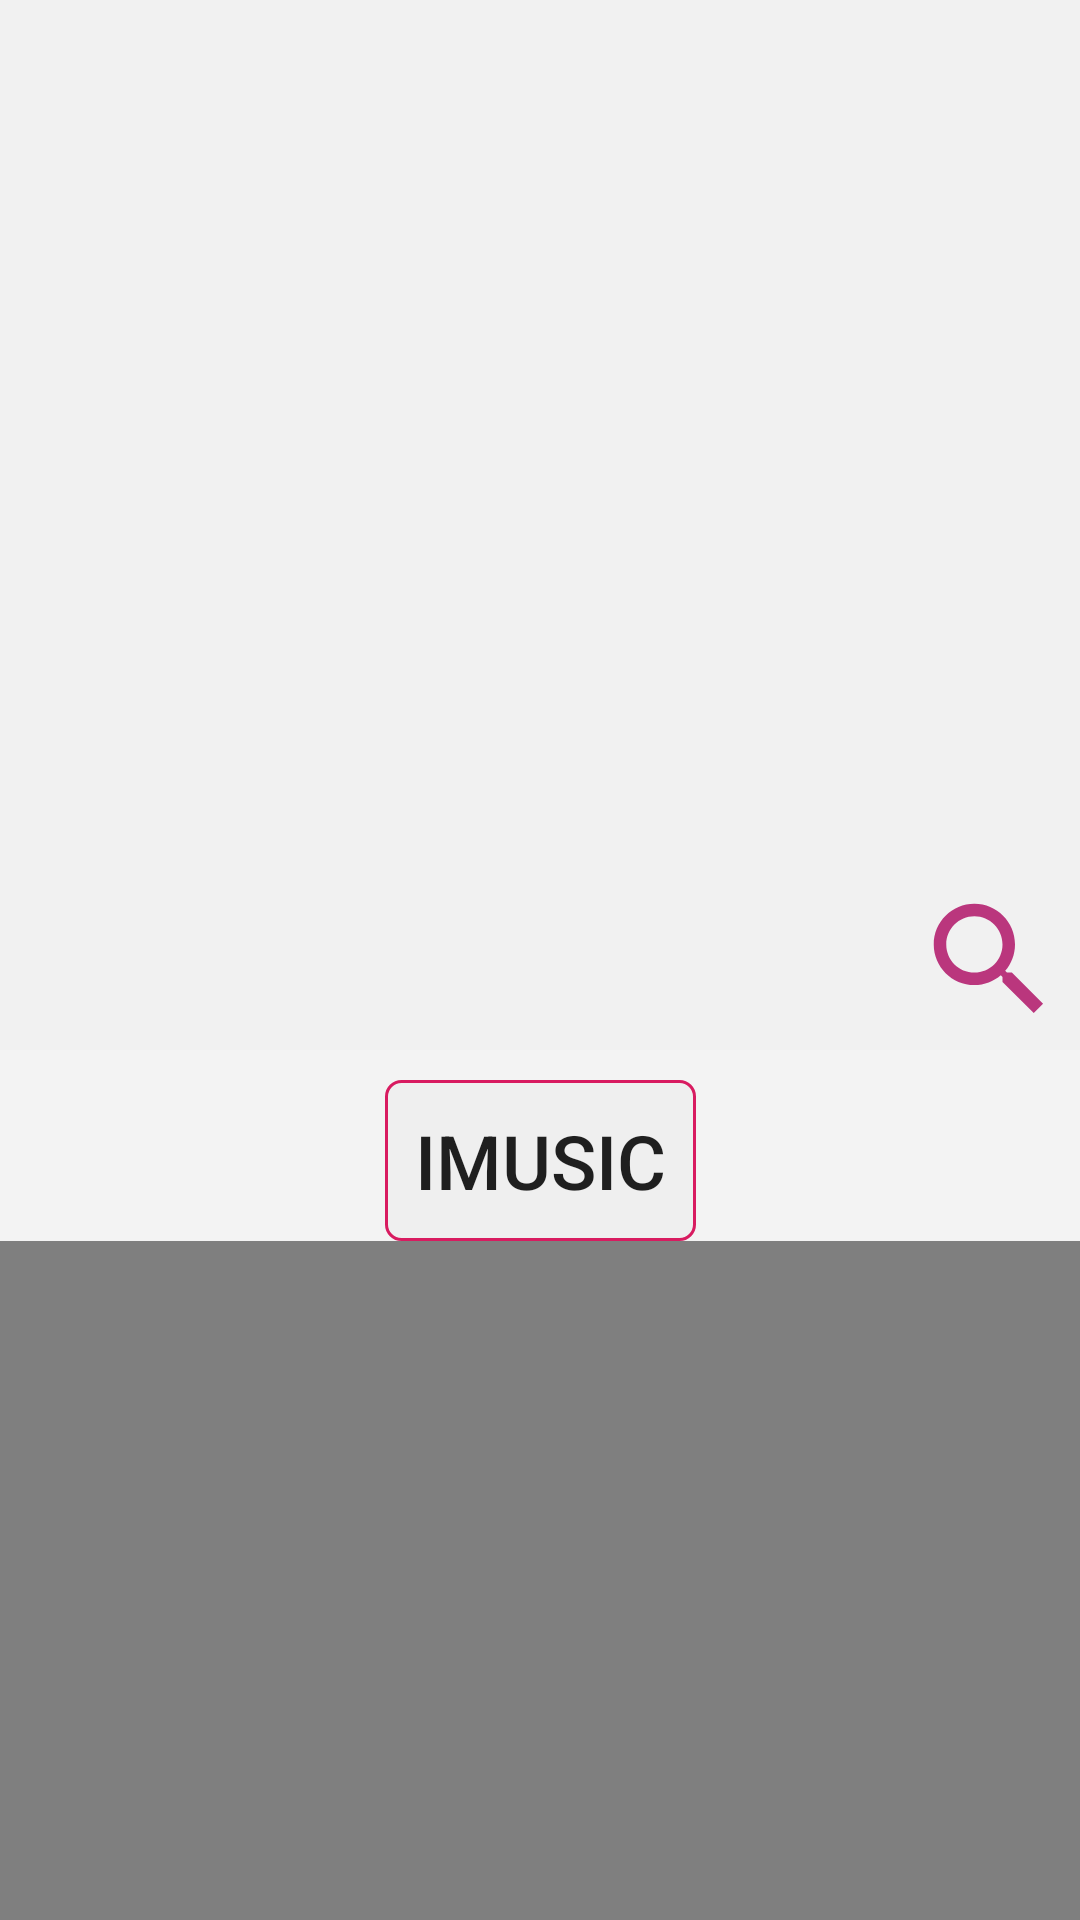

Icon bounding boxes for this 1080*1920 phone screenshot, format (x1, y1, x2, y2):
search: (933, 903, 1043, 1013)
